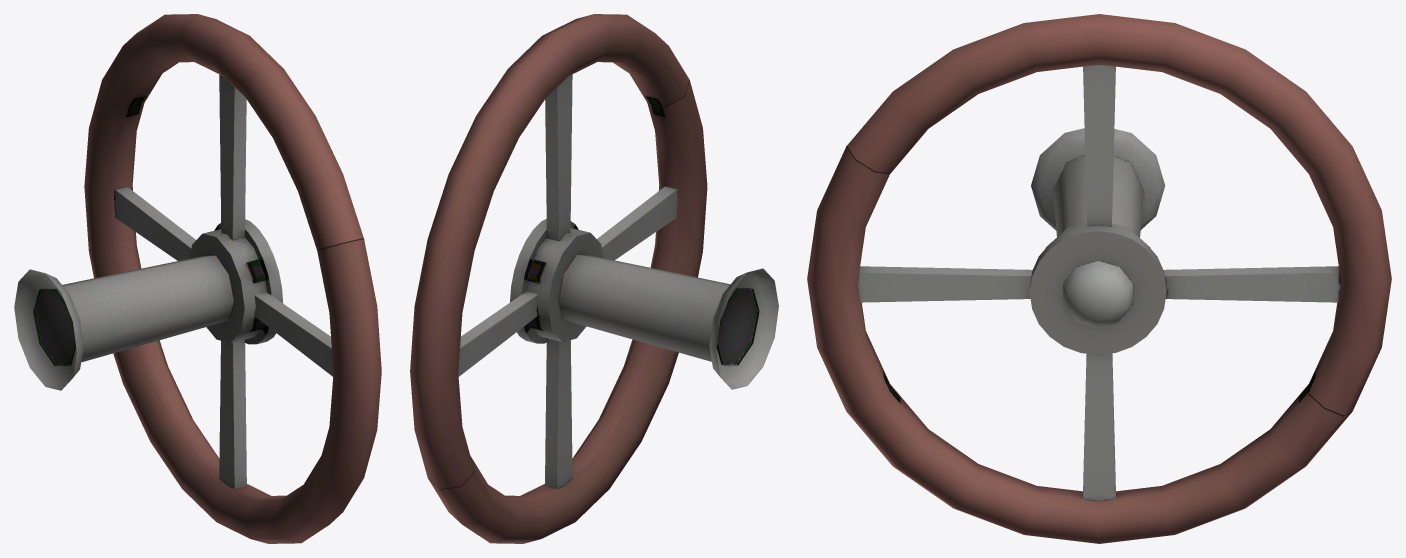
File: props_mining_crank02.glb
3 views of the same model, side by side, from view 1: azimuth 30°, elevation 25°; view 2: azimuth 150°, elevation 25°; view 3: azimuth 270°, elevation 25° (orthographic). The views are drawn at different scales.
Visible parts, largest first — view 1: models/props_mining/crank02; view 2: models/props_mining/crank02; view 3: models/props_mining/crank02.
Boxes of the visible parts, x1,y1,x2,y2 form: models/props_mining/crank02: [14, 14, 381, 543]; models/props_mining/crank02: [410, 14, 778, 543]; models/props_mining/crank02: [807, 14, 1391, 543].
Bounding box in the file's own units: 6.13 × 12.78 × 12.78.
1 material, 1 textured.
